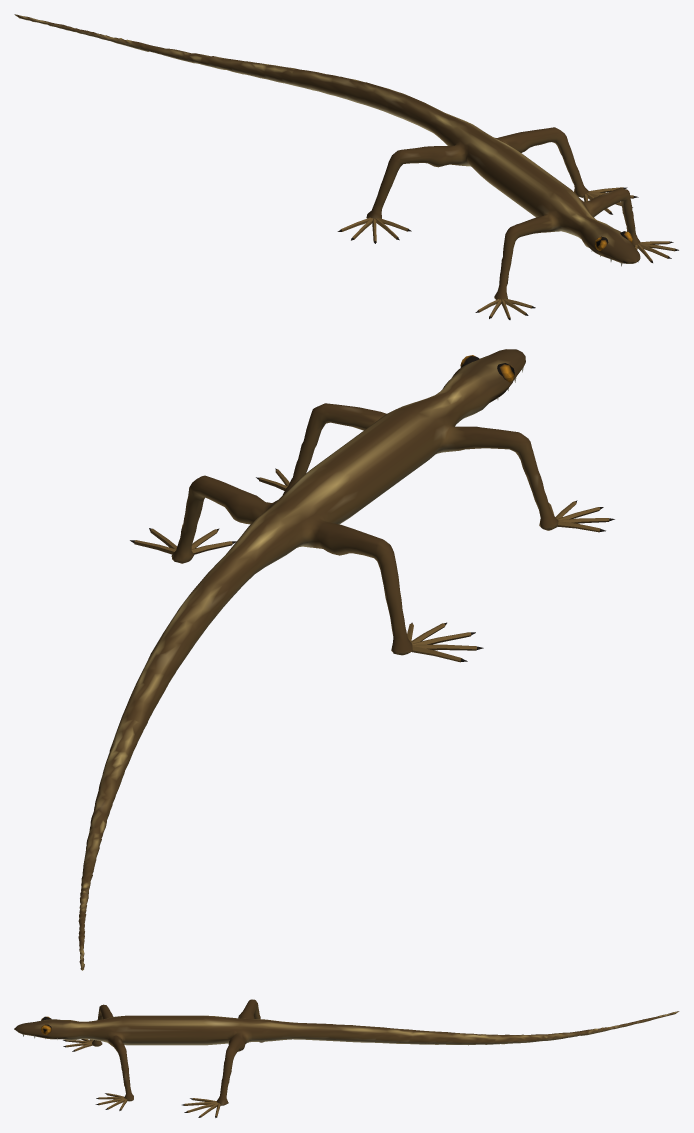
File: Anthracodromeus.fbx
3 renders of one model, top to bottom at view 1: azimuth 30°, elevation 25°; view 2: azimuth 150°, elevation 25°; view 3: azimuth 270°, elevation 25°, orthographic. The views are drawn at different scales.
Visible parts, largest first — view 1: Anthracodromeus; view 2: Anthracodromeus; view 3: Anthracodromeus.
Part boxes in pixels (x1,y1,x2,y2): Anthracodromeus: [14, 14, 678, 319]; Anthracodromeus: [78, 349, 614, 970]; Anthracodromeus: [14, 999, 679, 1117].
Size of the model in its own units: 0.3949 by 0.1015 by 1.09.
